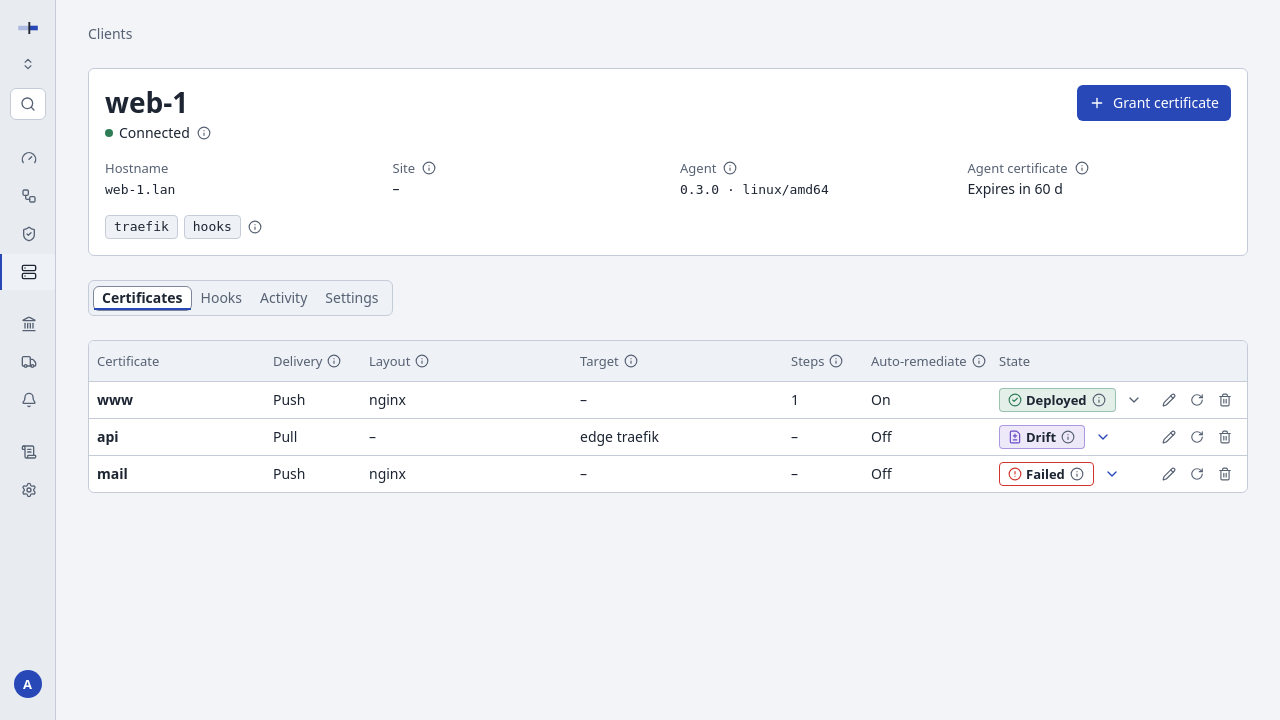
it: shows a toast when redeploy fails
Step 1. Click the button named "Redeploy www" → (1197, 400), box [1183,386,1211,414]
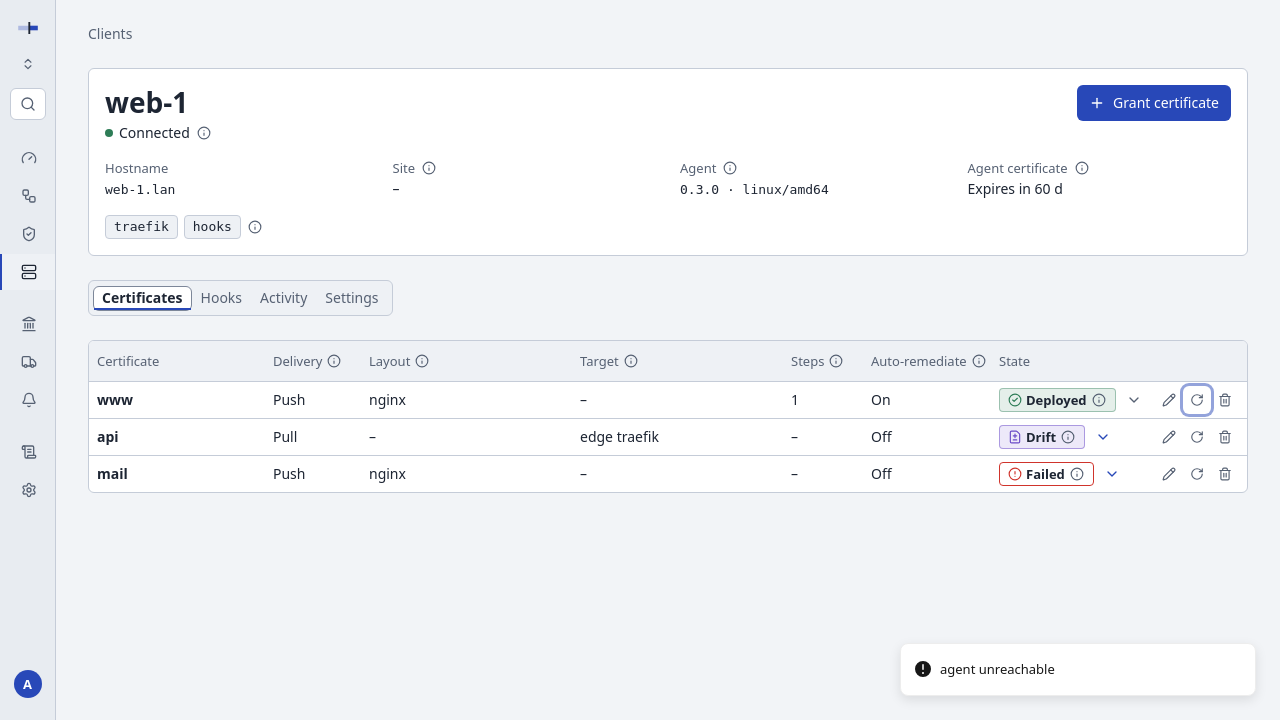
expect the text "agent unreachable" is shown: met, box [940,660,1055,679]
